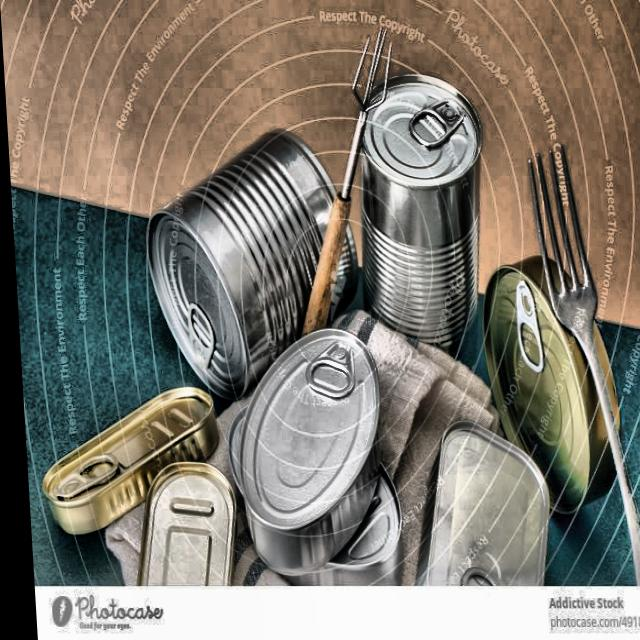can: (132, 127, 364, 403), (225, 320, 392, 574), (476, 247, 625, 531), (346, 68, 492, 354), (218, 404, 402, 607), (31, 379, 222, 539), (400, 415, 550, 594), (120, 455, 237, 592)
